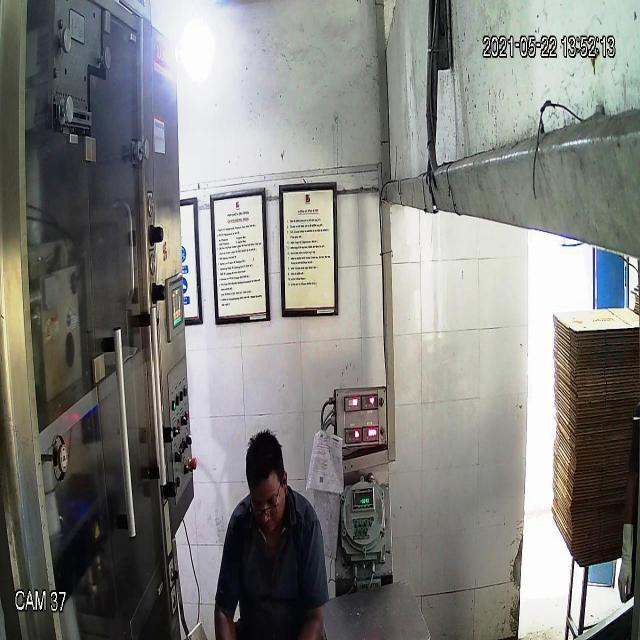glasses: (249, 490, 283, 525)
